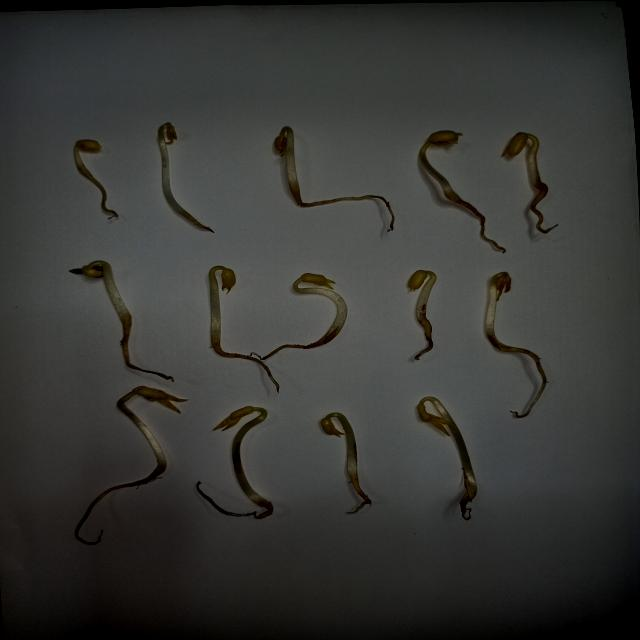leaf: (134, 385, 192, 415), (494, 132, 528, 158), (210, 405, 250, 426), (427, 130, 468, 148), (302, 272, 342, 290), (402, 268, 427, 290), (70, 264, 102, 281), (319, 417, 341, 439), (220, 269, 237, 294), (77, 138, 106, 152), (163, 124, 181, 146), (414, 404, 432, 425), (498, 276, 512, 300), (272, 135, 287, 156)
root: (69, 474, 171, 544), (288, 188, 400, 233), (121, 324, 180, 382), (453, 202, 510, 256), (513, 343, 552, 417), (224, 350, 282, 396), (524, 184, 564, 237), (195, 504, 274, 522), (346, 475, 373, 517), (177, 212, 220, 234), (263, 343, 330, 355), (454, 498, 476, 524), (412, 338, 436, 361), (98, 198, 121, 221)
stem: (420, 396, 480, 498), (113, 389, 166, 474), (292, 278, 347, 342), (155, 121, 193, 212), (235, 402, 267, 503), (90, 261, 141, 323), (481, 271, 513, 354), (418, 140, 459, 202), (72, 141, 110, 197), (326, 412, 360, 474), (207, 265, 223, 356), (281, 125, 301, 188), (528, 132, 550, 185), (421, 270, 435, 338)
